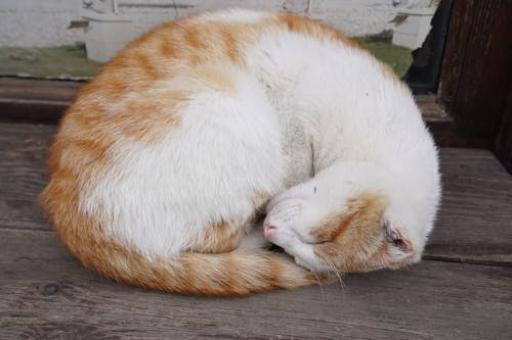cat_sleeping: (40, 9, 440, 295)
